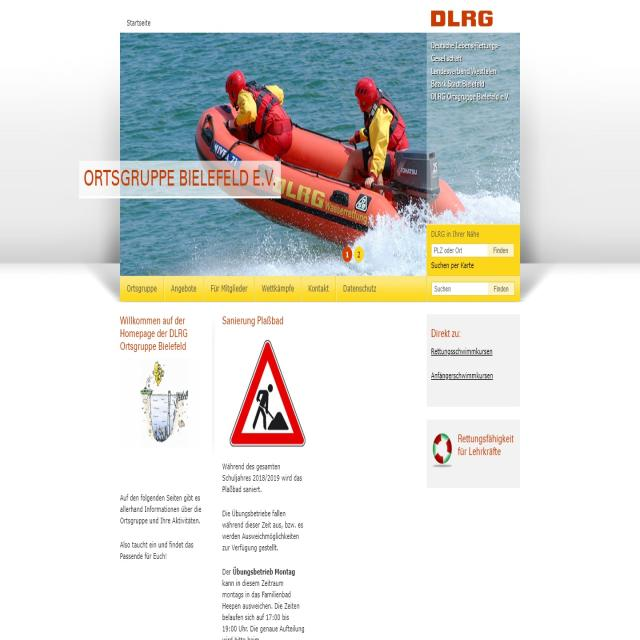button: (204, 276, 253, 300), (337, 277, 381, 303), (255, 276, 301, 299), (165, 276, 202, 299), (302, 276, 336, 300), (124, 277, 161, 298), (491, 244, 512, 258), (490, 282, 514, 294)
field: (432, 240, 489, 258), (431, 281, 489, 295)
heading: (83, 160, 280, 197), (118, 315, 191, 354), (430, 3, 498, 30), (220, 312, 286, 328), (431, 324, 458, 341)
image: (121, 32, 520, 304), (223, 334, 309, 452), (122, 356, 193, 449)
label: (433, 244, 463, 255), (431, 282, 453, 296)
link: (430, 369, 497, 390), (430, 348, 494, 358)
text: (219, 460, 307, 640), (431, 32, 510, 108), (118, 486, 203, 532), (116, 538, 194, 570), (456, 429, 512, 459), (431, 226, 483, 238), (429, 260, 475, 272)
